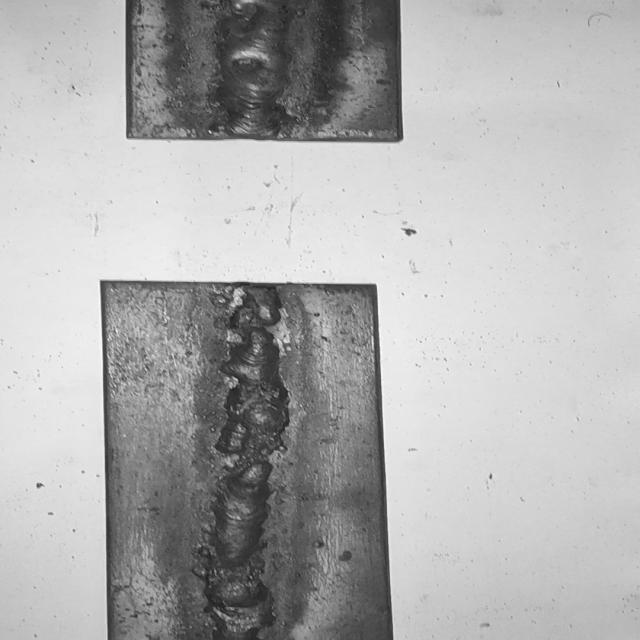Defect: (190, 544, 283, 640), (202, 419, 307, 501), (210, 288, 294, 381), (208, 0, 292, 54)
Welding Line: (198, 286, 286, 640), (223, 0, 283, 135)
Workpiece: (92, 275, 408, 640), (116, 0, 414, 146)
